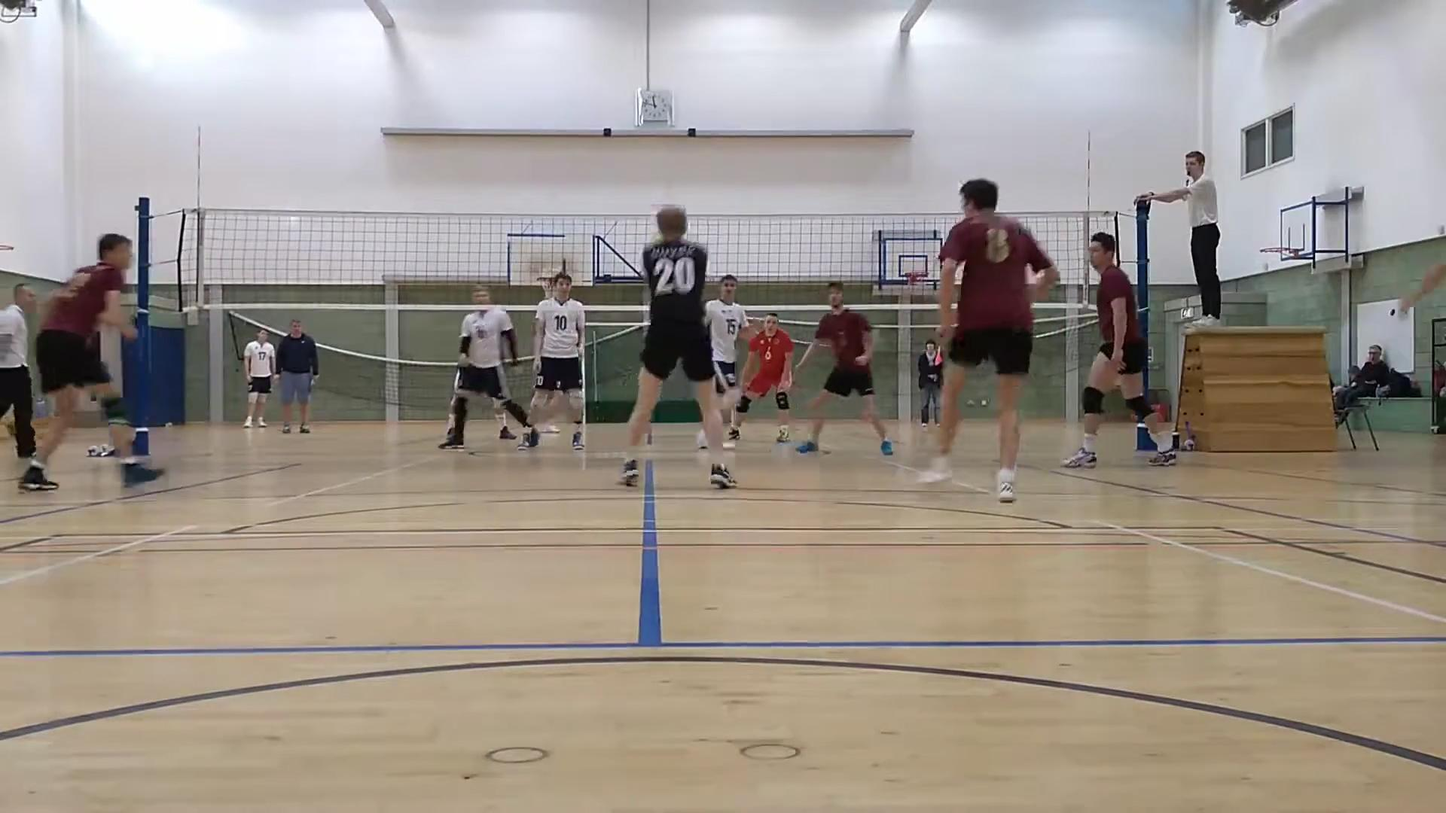ricezione: (614, 195, 745, 492)
